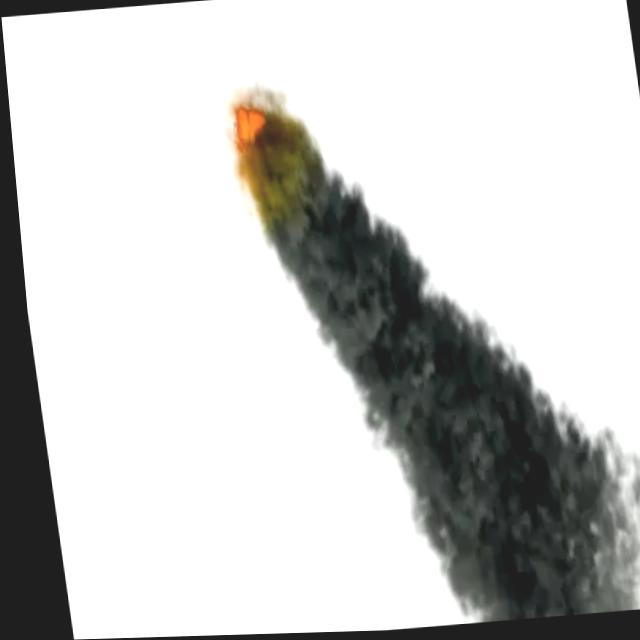no_helmet: (222, 71, 640, 635)
